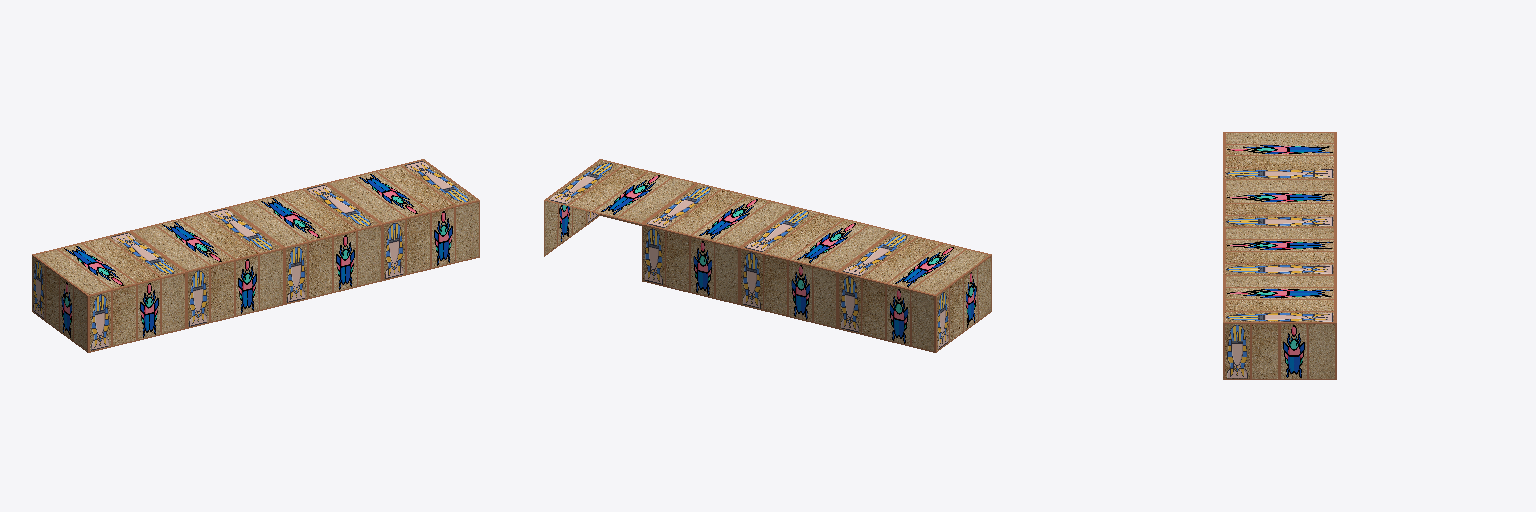
The picture shows the model from 3 angles: view 1: azimuth 30°, elevation 25°; view 2: azimuth 150°, elevation 25°; view 3: azimuth 270°, elevation 25°; orthographic projection.
Parts seen in each view (by area): view 1: Box112; view 2: Box112; view 3: Box112.
Part boxes in pixels (x1,y1,x2,y2): Box112: (32, 159, 479, 352); Box112: (544, 159, 991, 352); Box112: (1223, 132, 1336, 379).
Size of the model in its own units: 18 by 2.5 by 4.5.
Materials: 1 (1 with a texture image).